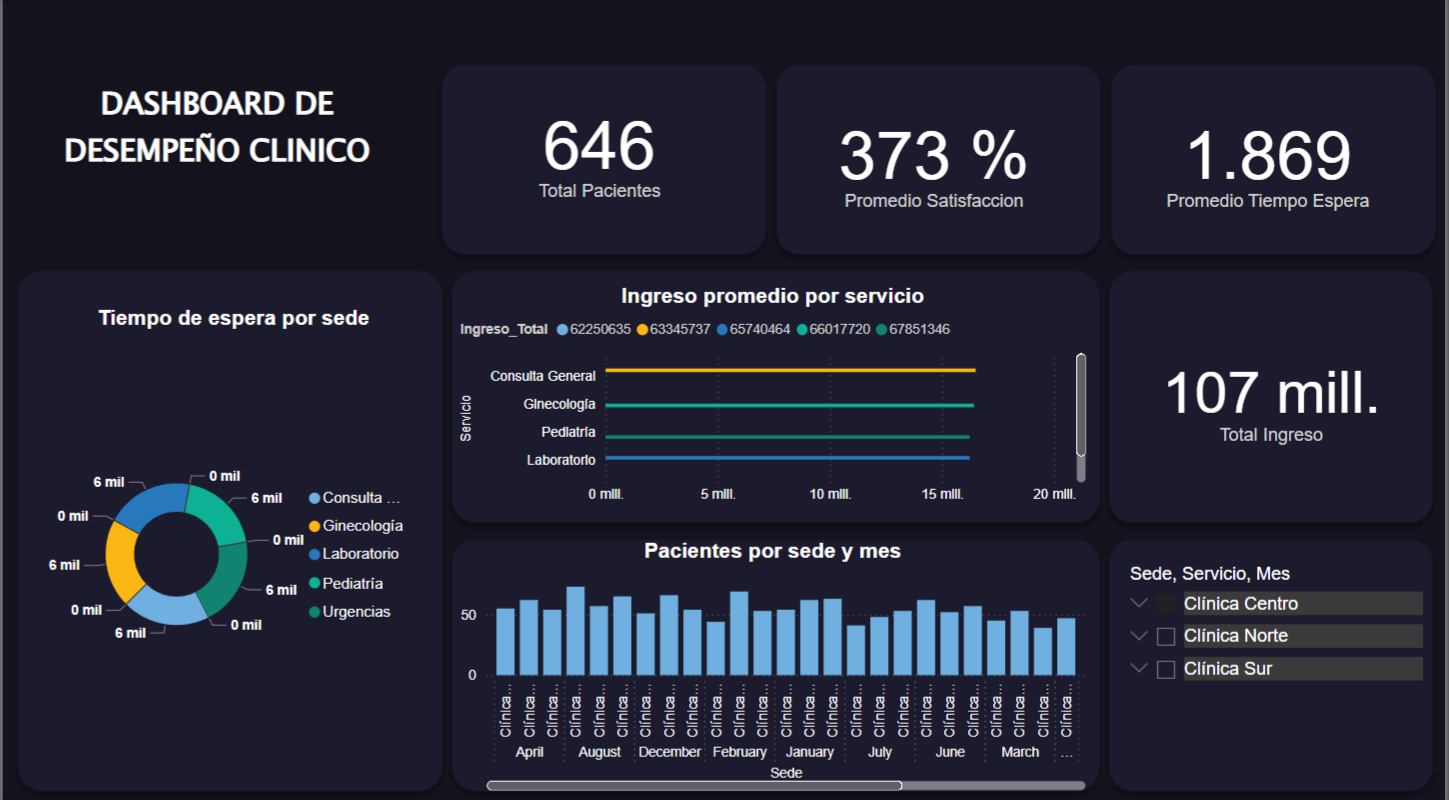

The dashboard page shown, as its layout file describes it:
{"tool":"powerbi","page":{"name":"Página 1","canvas":[1280,720],"ordinal":0},"visuals":[{"type":"columnChart","title":"Pacientes por sede y mes\t","fields":{"Category":["kpi_pacientes_por_sede_mes.Mes","kpi_pacientes_por_sede_mes.Sede"],"Y":["Sum(kpi_pacientes_por_sede_mes.Pacientes)"]},"box":[400.9,482.8,564.6,227.9],"z":0},{"type":"clusteredBarChart","title":"Ingreso promedio por servicio","fields":{"Y":["Sum(kpi_ingreso_promedio_servicio.Ingreso_Promedio)"],"Category":["kpi_ingreso_promedio_servicio.Servicio"],"Series":["kpi_ingreso_promedio_servicio.Ingreso_Total"]},"box":[400.9,256,564.6,203.4],"z":1000},{"type":"donutChart","title":"Tiempo de espera por sede","fields":{"Category":["kpi_espera_promedio.Servicio"],"Y":["CountNonNull(kpi_espera_promedio.Sede)","Sum(kpi_espera_promedio.Tiempo_Espera_Prom)"]},"box":[18,255.4,374.2,455.7],"z":2000},{"type":"card","fields":{"Values":["datos_limpios_salud.Total Pacientes"]},"box":[400.9,63.1,258.3,148.5],"z":2001},{"type":"card","fields":{"Values":["datos_limpios_salud.Promedio Tiempo Espera"]},"box":[980.7,64.3,284.1,162.5],"z":2002},{"type":"card","fields":{"Values":["datos_limpios_salud.Promedio Satisfaccion"]},"box":[688.5,64.3,277,162.5],"z":2003},{"type":"card","fields":{"Values":["datos_limpios_salud.Total Ingreso"]},"box":[994.8,279.4,260.7,155.5],"z":2004},{"type":"slicer","fields":{"Values":["datos_limpios_salud.Sede","datos_limpios_salud.Servicio","datos_limpios_salud.Mes"]},"box":[987.3,499.8,277.5,191.9],"z":2005},{"type":"textbox","box":[17.7,71.8,344.9,147.2],"z":2006}]}

Visuals, with their boxes in screenshot pixels (x1, y1, x2, y2), scaled from the page's 1280x720 canvas onto the 1449x800 screenshot:
"Pacientes por sede y mes	" columnChart: x1=454 y1=536 x2=1093 y2=790
"Ingreso promedio por servicio" clusteredBarChart: x1=454 y1=284 x2=1093 y2=510
"Tiempo de espera por sede" donutChart: x1=20 y1=284 x2=444 y2=790
card - datos_limpios_salud.Total Pacientes: x1=454 y1=70 x2=746 y2=235
card - datos_limpios_salud.Promedio Tiempo Espera: x1=1110 y1=71 x2=1432 y2=252
card - datos_limpios_salud.Promedio Satisfaccion: x1=779 y1=71 x2=1093 y2=252
card - datos_limpios_salud.Total Ingreso: x1=1126 y1=310 x2=1421 y2=483
slicer - datos_limpios_salud.Sede x datos_limpios_salud.Servicio: x1=1118 y1=555 x2=1432 y2=769
textbox: x1=20 y1=80 x2=410 y2=243
